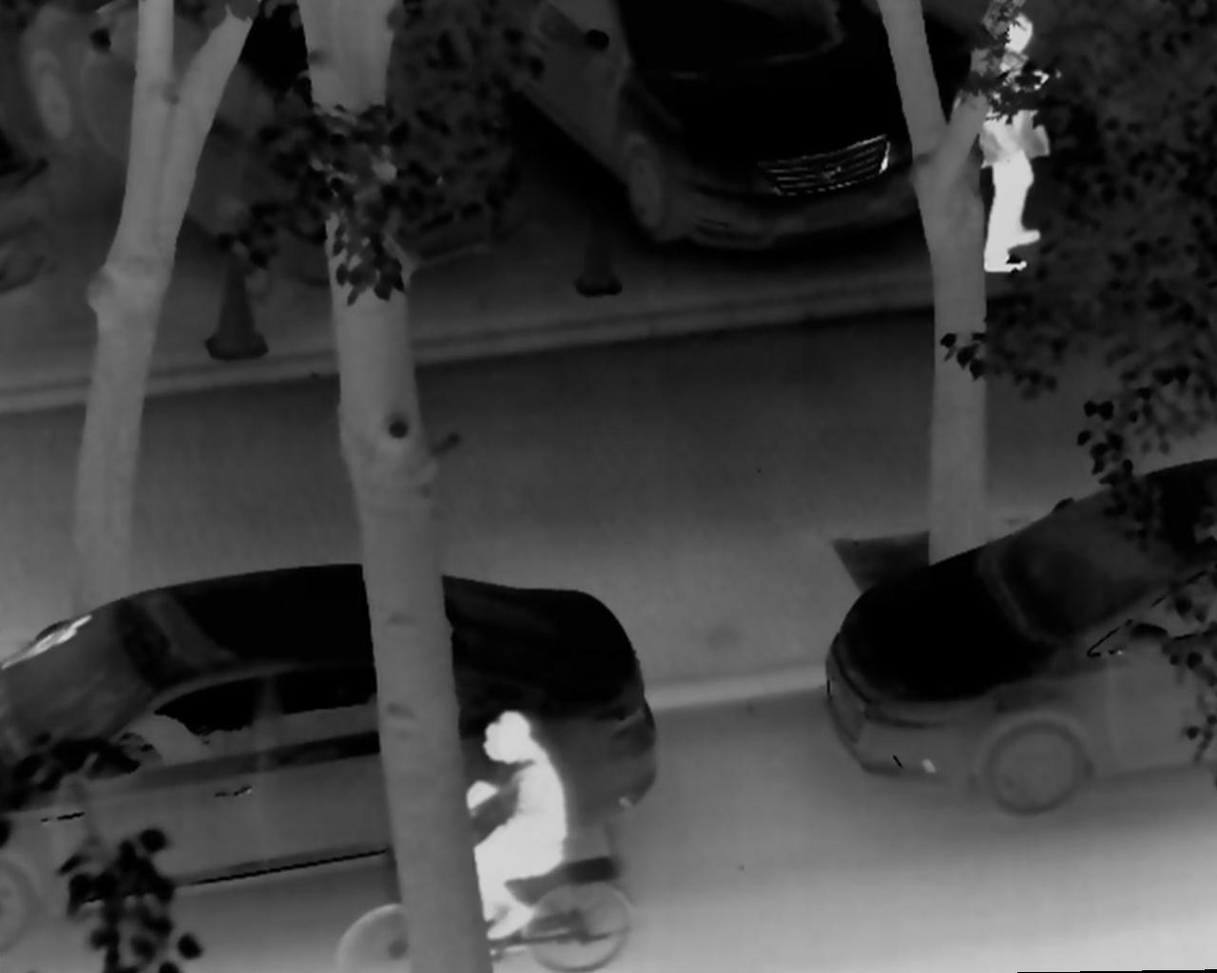person: (957, 10, 1062, 275), (461, 711, 570, 944)
